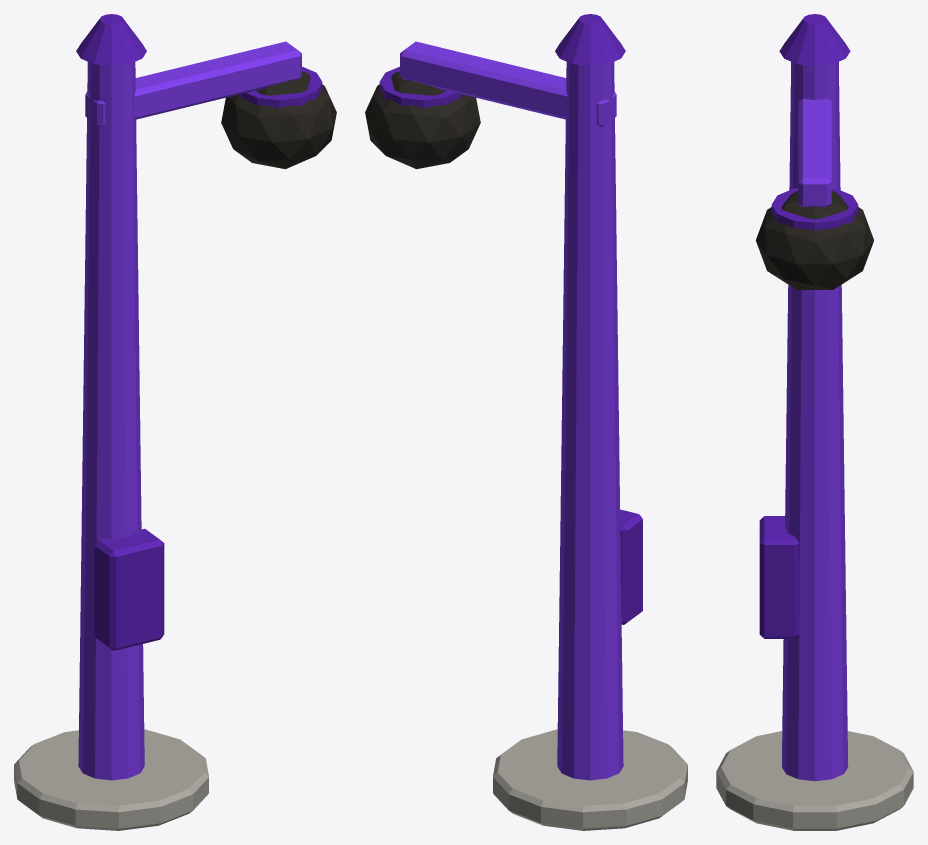
The model's file is cctv-fixed.glb.
3 renders of one model, left to right at view 1: azimuth 30°, elevation 25°; view 2: azimuth 150°, elevation 25°; view 3: azimuth 270°, elevation 25°, orthographic.
Visible parts, largest first — view 1: body, metal, body3, ink; view 2: body, metal, ink, body3; view 3: body, metal, body3, ink.
Boxes of the visible parts, x1,y1,x2,y2 form: body: [78, 41, 301, 780]; metal: [14, 729, 208, 830]; body3: [76, 14, 322, 650]; ink: [221, 71, 336, 169]; body: [400, 41, 623, 780]; metal: [493, 729, 687, 830]; ink: [365, 71, 480, 169]; body3: [379, 14, 642, 624]; body: [781, 61, 848, 781]; metal: [716, 731, 913, 830]; body3: [759, 14, 858, 638]; ink: [756, 191, 873, 289].
Size of the model in its own units: 4.38 by 10.8 by 2.5.
